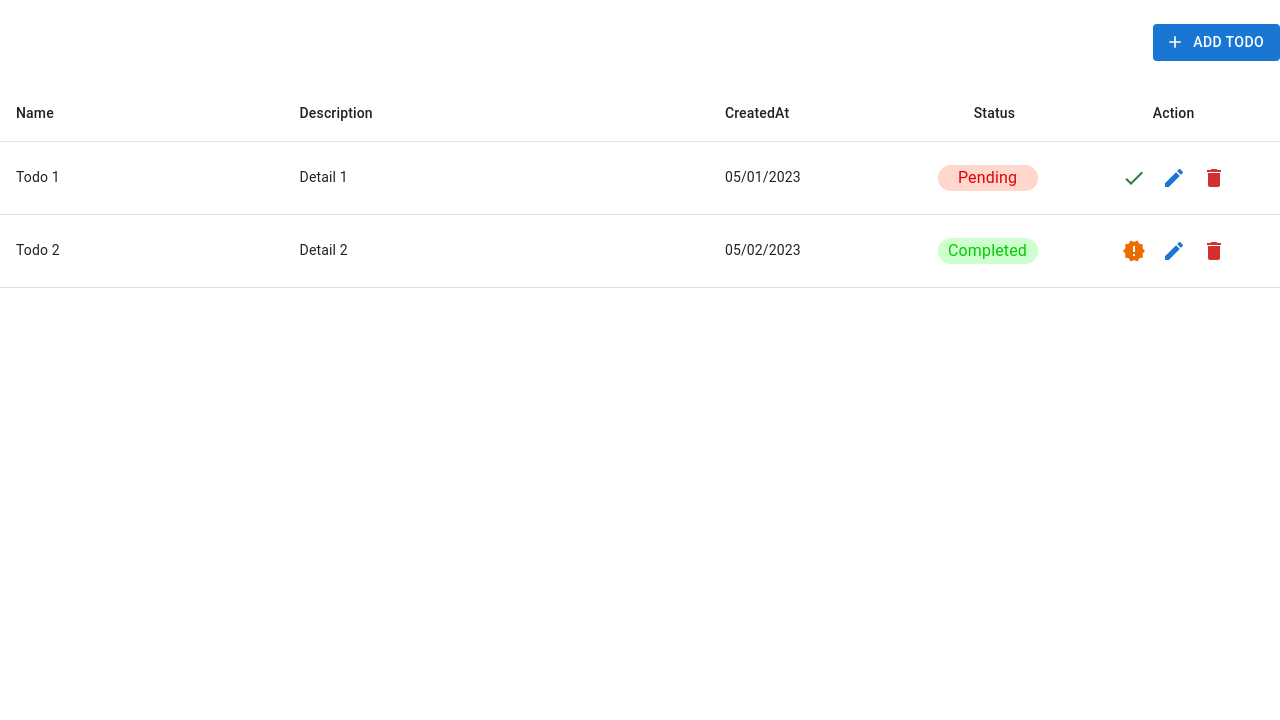
TodoItemTable Component › opens TodoItemForm when add todo btn is clicked
The image size is (1280, 720).
Click the button "Add Todo": (1217, 42) 1153,24 -> 1279,60
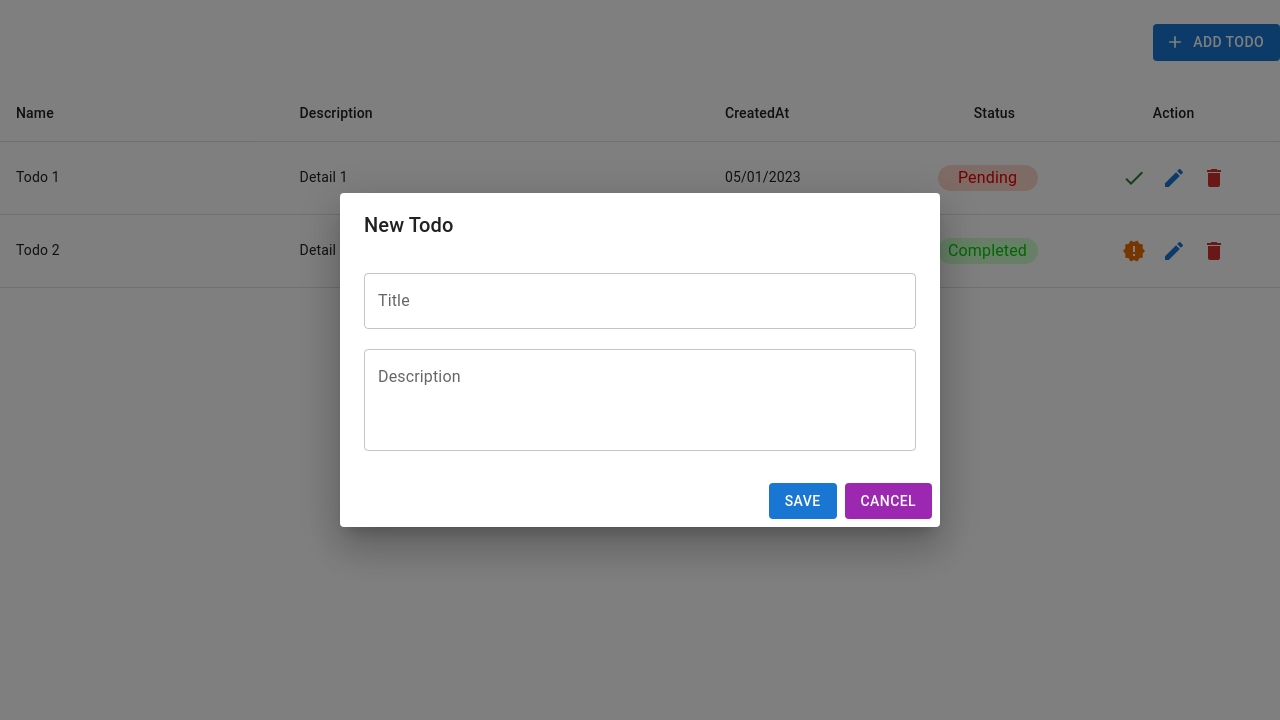
Check: the element with test id "todo-item-form" is shown
